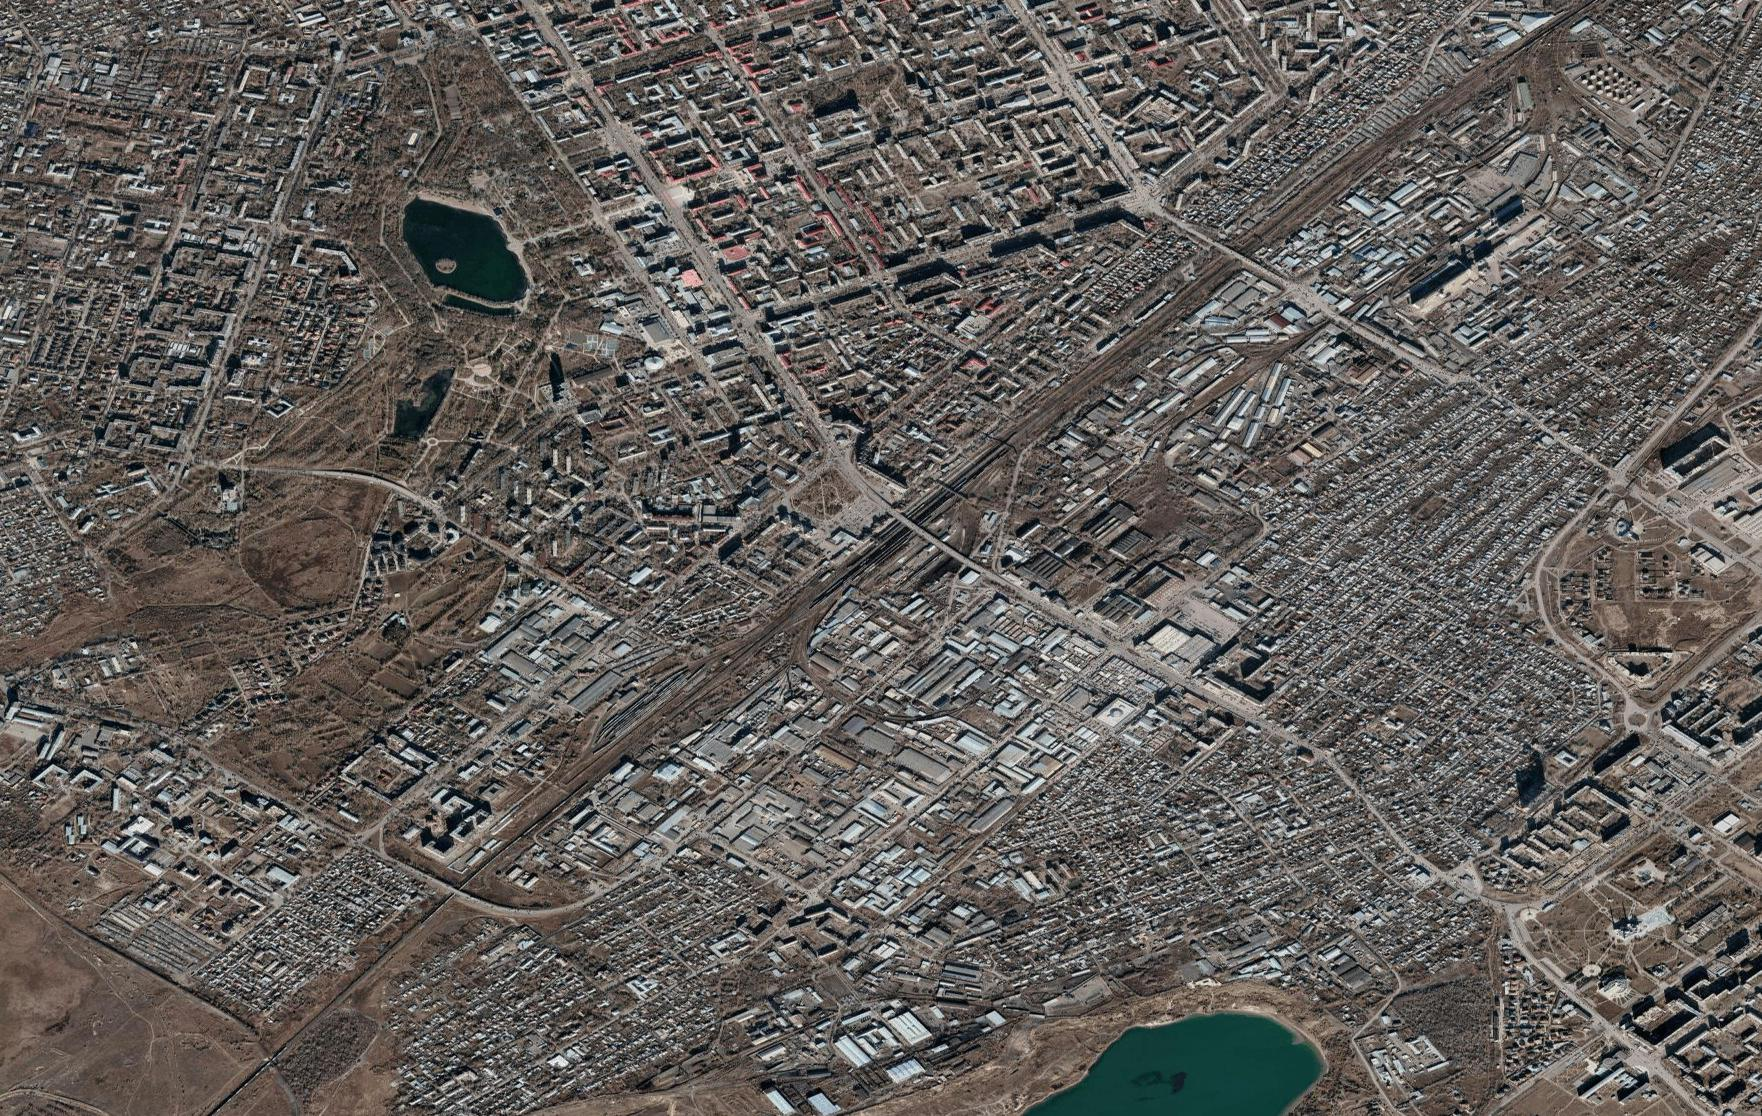train_station: (577, 654, 724, 773)
